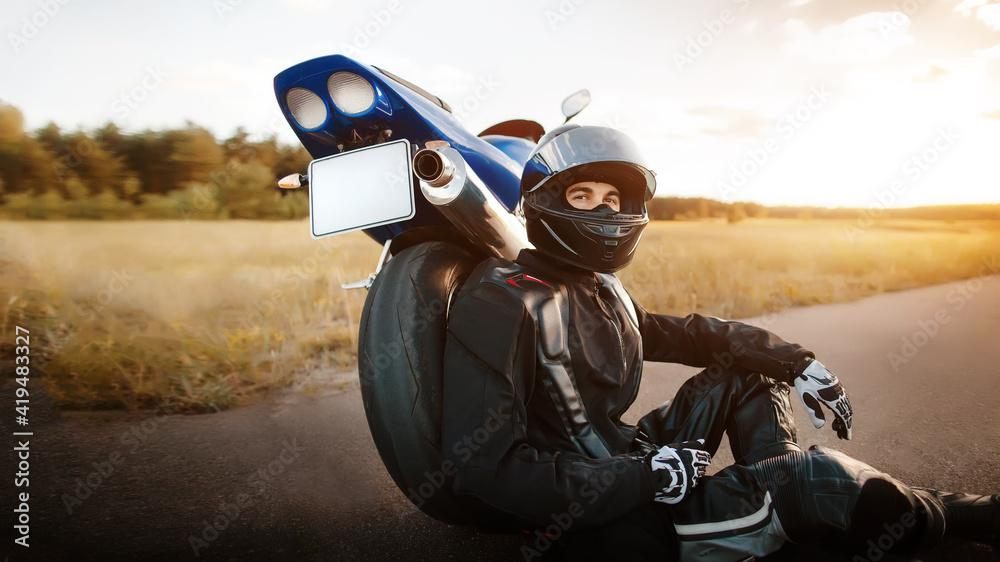helmet: (519, 123, 658, 275)
